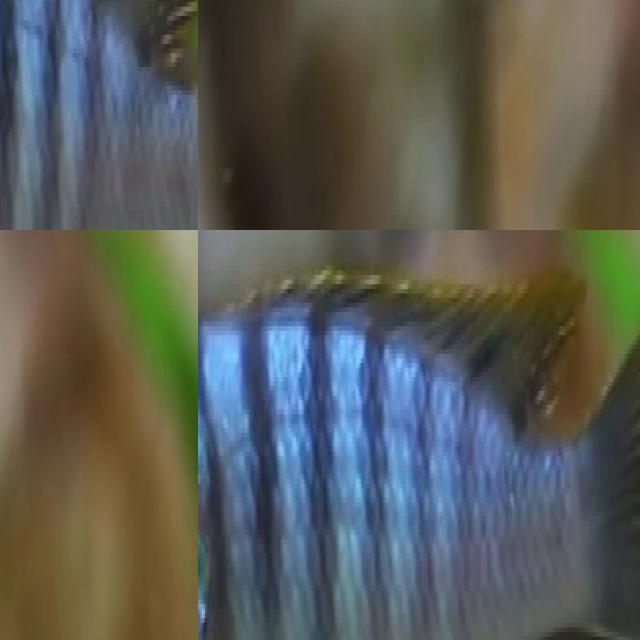fish: (0, 0, 198, 230)
